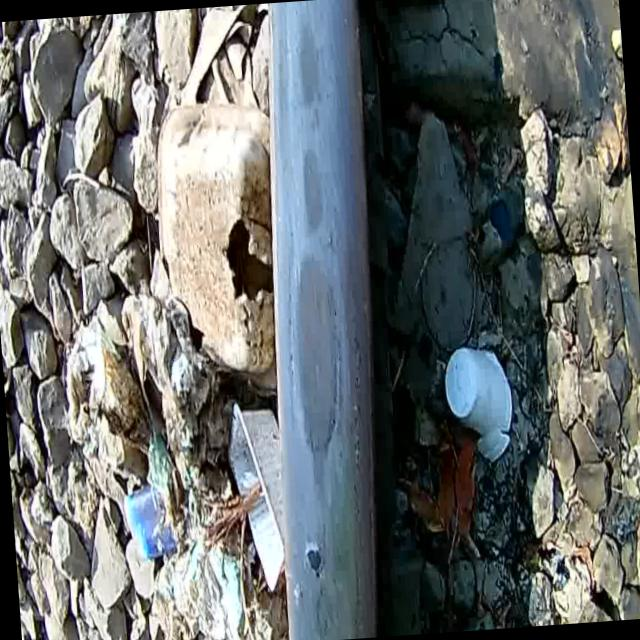Squats: (207, 0, 440, 640)
